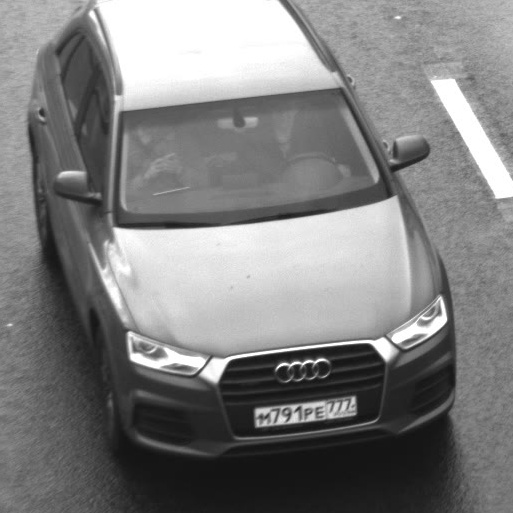plate: (243, 385, 367, 435)
